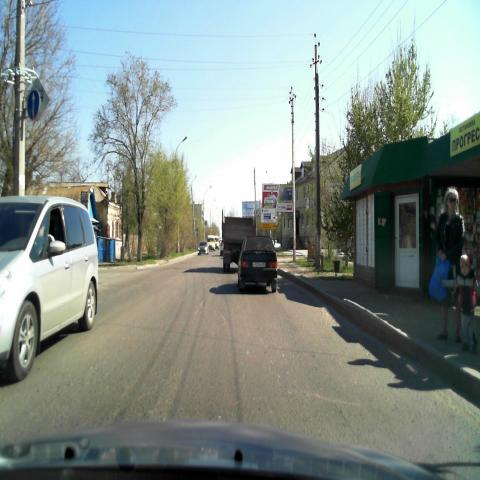4_1_1: (26, 88, 40, 122)
